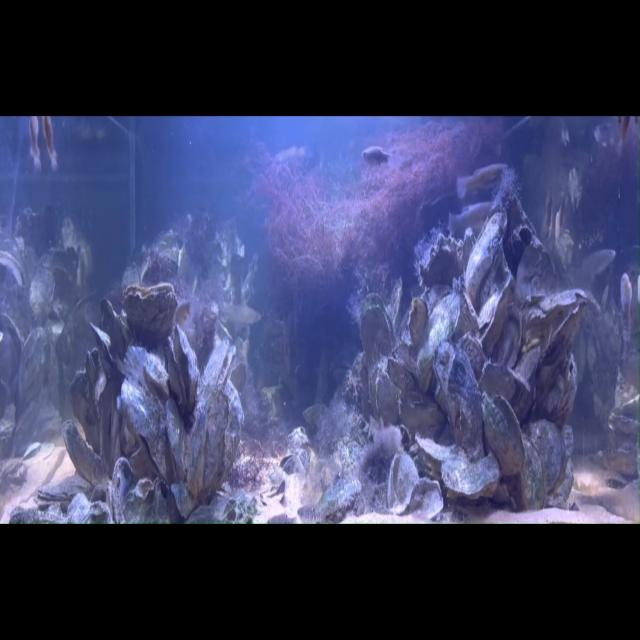Oyster- Indeterminate: (499, 170, 544, 269), (136, 247, 177, 286)
Oyster-Closed: (188, 391, 239, 500), (120, 382, 167, 477), (465, 215, 510, 309), (418, 290, 464, 373), (544, 290, 597, 353), (63, 423, 110, 494), (417, 228, 469, 288), (442, 449, 499, 500), (85, 300, 129, 366), (528, 423, 569, 490), (479, 275, 513, 353), (98, 368, 123, 473), (36, 473, 98, 515), (119, 343, 168, 395), (70, 369, 103, 445), (415, 436, 466, 482), (18, 330, 48, 407), (399, 386, 442, 438), (480, 360, 529, 405), (0, 311, 21, 416), (544, 357, 575, 427), (517, 243, 557, 295), (522, 439, 550, 513), (110, 457, 138, 526), (371, 360, 399, 427), (494, 309, 521, 367), (389, 344, 419, 388), (172, 418, 191, 485), (517, 332, 544, 378), (410, 296, 429, 348), (87, 347, 104, 381), (524, 315, 546, 341)
Oyster-Open: (436, 345, 485, 453), (479, 394, 528, 482), (114, 481, 185, 526), (123, 282, 178, 340), (170, 324, 199, 411), (360, 298, 391, 370), (0, 235, 31, 306), (388, 452, 421, 510), (52, 241, 86, 292), (207, 336, 233, 394), (411, 477, 443, 518)
